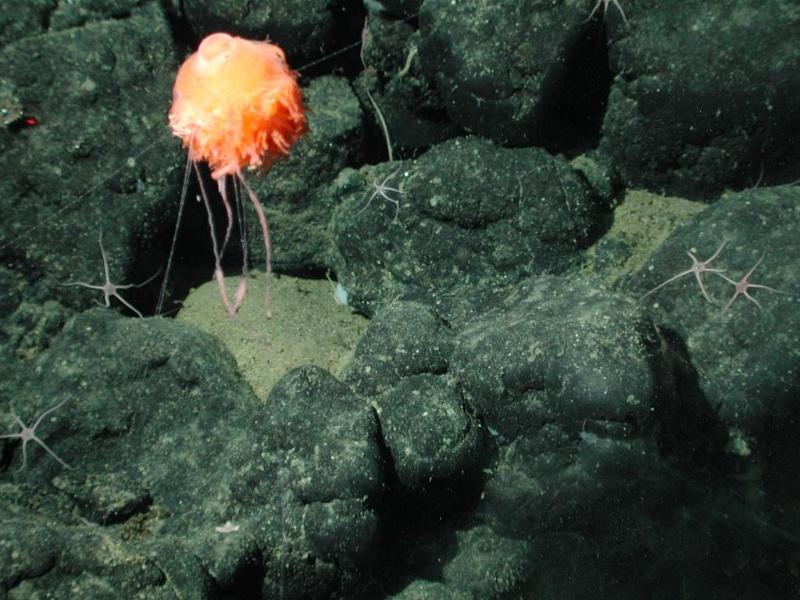Jellyfish: (139, 31, 308, 286)
